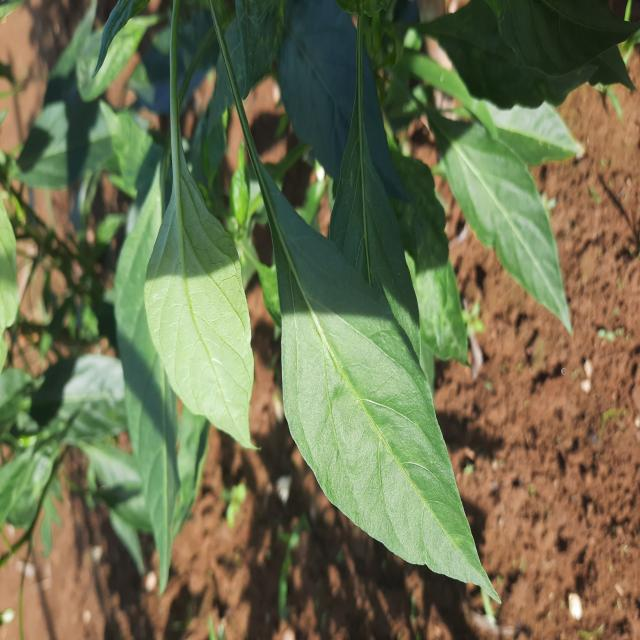sehat: (261, 189, 501, 606), (142, 163, 264, 460), (431, 118, 586, 340)
